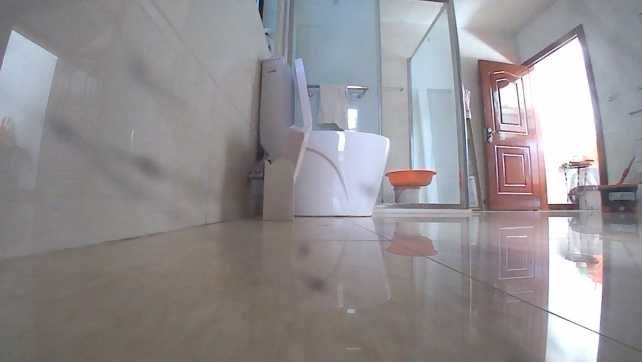door_anno: (477, 57, 549, 211)
door_sill: (383, 200, 470, 213)
toilet: (257, 55, 390, 217)
